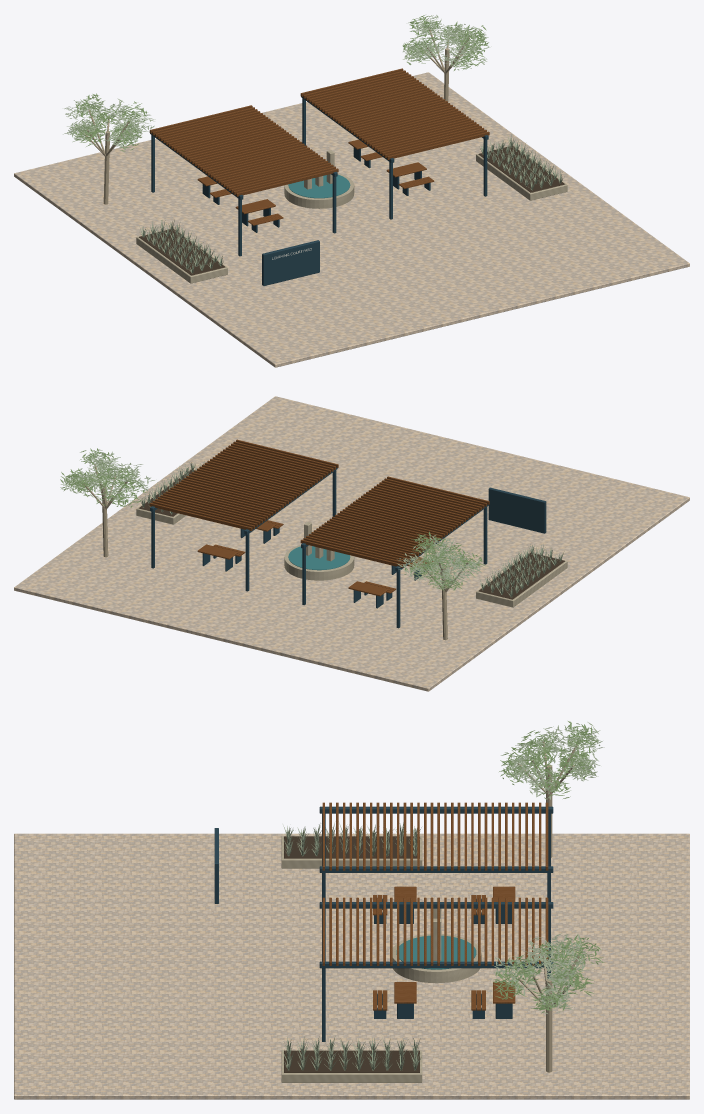
File: courtyard.glb
The picture shows the model from 3 angles, top to bottom: view 1: azimuth 30°, elevation 25°; view 2: azimuth 150°, elevation 25°; view 3: azimuth 270°, elevation 25°; orthographic projection. The views are drawn at different scales.
Visible parts, largest first — view 1: Whole item paving.007, Place identity.002, Mulch.018, Mulch.019, Garden edge.018, Water basin, Water surface, Garden edge.019; view 2: Whole item paving.007, Place identity.002, Mulch.018, Water basin, Water surface, Garden edge.018, Timber shade slat.111, Timber shade slat.077; view 3: Whole item paving.007, Mulch.019, Mulch.018, Garden edge.019, Shade beam.005, Shade beam.004, Shade beam.007, Water basin, Water surface, Garden edge.018, Shade beam.006.
Boxes of the visible parts, x1,y1,x2,y2 form: Whole item paving.007: (14, 72, 689, 367); Place identity.002: (262, 240, 319, 285); Mulch.018: (139, 229, 225, 275); Mulch.019: (478, 146, 564, 192); Garden edge.018: (136, 228, 227, 283); Water basin: (284, 173, 354, 208); Water surface: (288, 174, 350, 198); Garden edge.019: (476, 145, 567, 200); Whole item paving.007: (14, 396, 689, 691); Place identity.002: (488, 487, 546, 533); Mulch.018: (478, 552, 564, 599); Water basin: (284, 545, 354, 580); Water surface: (288, 546, 350, 570); Garden edge.018: (476, 552, 567, 607); Timber shade slat.111: (149, 503, 252, 530); Timber shade slat.077: (300, 539, 403, 567); Whole item paving.007: (14, 833, 689, 1099); Mulch.019: (284, 1050, 419, 1072); Mulch.018: (284, 836, 419, 858); Garden edge.019: (281, 1050, 422, 1082); Shade beam.005: (319, 866, 553, 872); Shade beam.004: (319, 806, 553, 813); Shade beam.007: (319, 961, 553, 968); Water basin: (392, 934, 481, 983); Water surface: (396, 935, 476, 969); Garden edge.018: (281, 836, 422, 868); Shade beam.006: (319, 902, 553, 908).
Bounding box in the file's own units: 22.37 × 5.19 × 24.
Materials: 10 (3 with a texture image).
